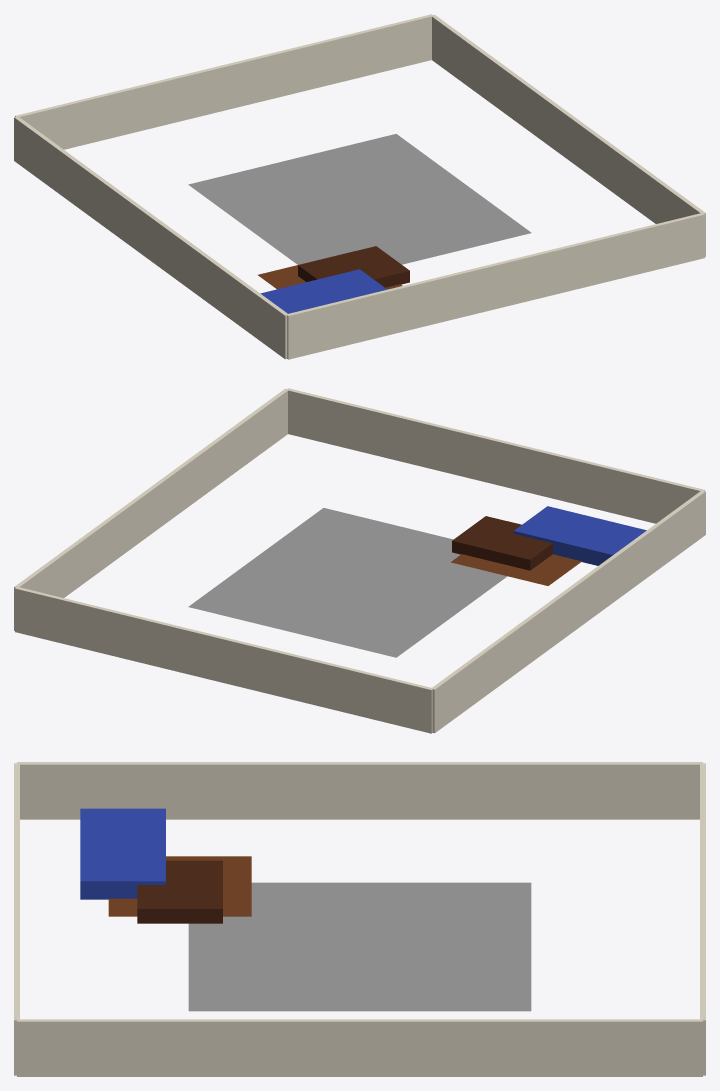
File: boq_professional_ab7d1dab-f564-46c4-9455-ee07210ede4e.obj
3 renders of one model, top to bottom at view 1: azimuth 30°, elevation 25°; view 2: azimuth 150°, elevation 25°; view 3: azimuth 270°, elevation 25°, orthographic. The views are drawn at different scales.
Parts seen in each view (by area): view 1: Foundation, ExteriorWall_South, ExteriorWall_North, ExteriorWall_West, ExteriorWall_East, Sofa_Living_Room_1, CoffeeTable_Living_Room_1, Floor_Living_Room_1; view 2: Foundation, ExteriorWall_North, ExteriorWall_South, ExteriorWall_West, ExteriorWall_East, Sofa_Living_Room_1, CoffeeTable_Living_Room_1, Floor_Living_Room_1; view 3: Foundation, ExteriorWall_East, ExteriorWall_West, Sofa_Living_Room_1, CoffeeTable_Living_Room_1, Floor_Living_Room_1, ExteriorWall_North, ExteriorWall_South.
Boxes of the visible parts, x1=… form: Foundation: x1=188, y1=134, x2=531, y2=264; ExteriorWall_South: x1=286, y1=213, x2=704, y2=359; ExteriorWall_North: x1=15, y1=14, x2=433, y2=149; ExteriorWall_West: x1=14, y1=116, x2=288, y2=359; ExteriorWall_East: x1=432, y1=14, x2=705, y2=256; Sofa_Living_Room_1: x1=260, y1=269, x2=386, y2=313; CoffeeTable_Living_Room_1: x1=298, y1=246, x2=409, y2=287; Floor_Living_Room_1: x1=258, y1=251, x2=402, y2=289; Foundation: x1=188, y1=508, x2=506, y2=657; ExteriorWall_North: x1=15, y1=586, x2=432, y2=733; ExteriorWall_South: x1=286, y1=388, x2=704, y2=523; ExteriorWall_West: x1=432, y1=491, x2=705, y2=733; ExteriorWall_East: x1=14, y1=388, x2=287, y2=630; Sofa_Living_Room_1: x1=513, y1=506, x2=646, y2=565; CoffeeTable_Living_Room_1: x1=452, y1=516, x2=552, y2=570; Floor_Living_Room_1: x1=451, y1=521, x2=581, y2=585; Foundation: x1=188, y1=882, x2=531, y2=1011; ExteriorWall_East: x1=17, y1=1019, x2=702, y2=1076; ExteriorWall_West: x1=17, y1=762, x2=702, y2=819; Sofa_Living_Room_1: x1=80, y1=808, x2=165, y2=899; CoffeeTable_Living_Room_1: x1=137, y1=860, x2=222, y2=923; Floor_Living_Room_1: x1=108, y1=856, x2=251, y2=916; ExteriorWall_North: x1=700, y1=763, x2=705, y2=1075; ExteriorWall_South: x1=14, y1=763, x2=19, y2=1075.
Bounding box in the file's own units: 30.3 × 3 × 34.12.
